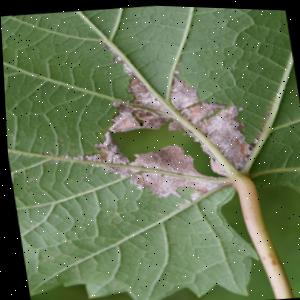Folha: (0, 0, 300, 300)
Fungo: (27, 23, 262, 215), (119, 59, 259, 184), (51, 117, 222, 212), (95, 30, 199, 118), (119, 137, 217, 203), (186, 100, 256, 178), (123, 68, 200, 116), (101, 92, 170, 134), (161, 96, 229, 132), (95, 36, 135, 78), (163, 72, 199, 110), (95, 37, 122, 63)
